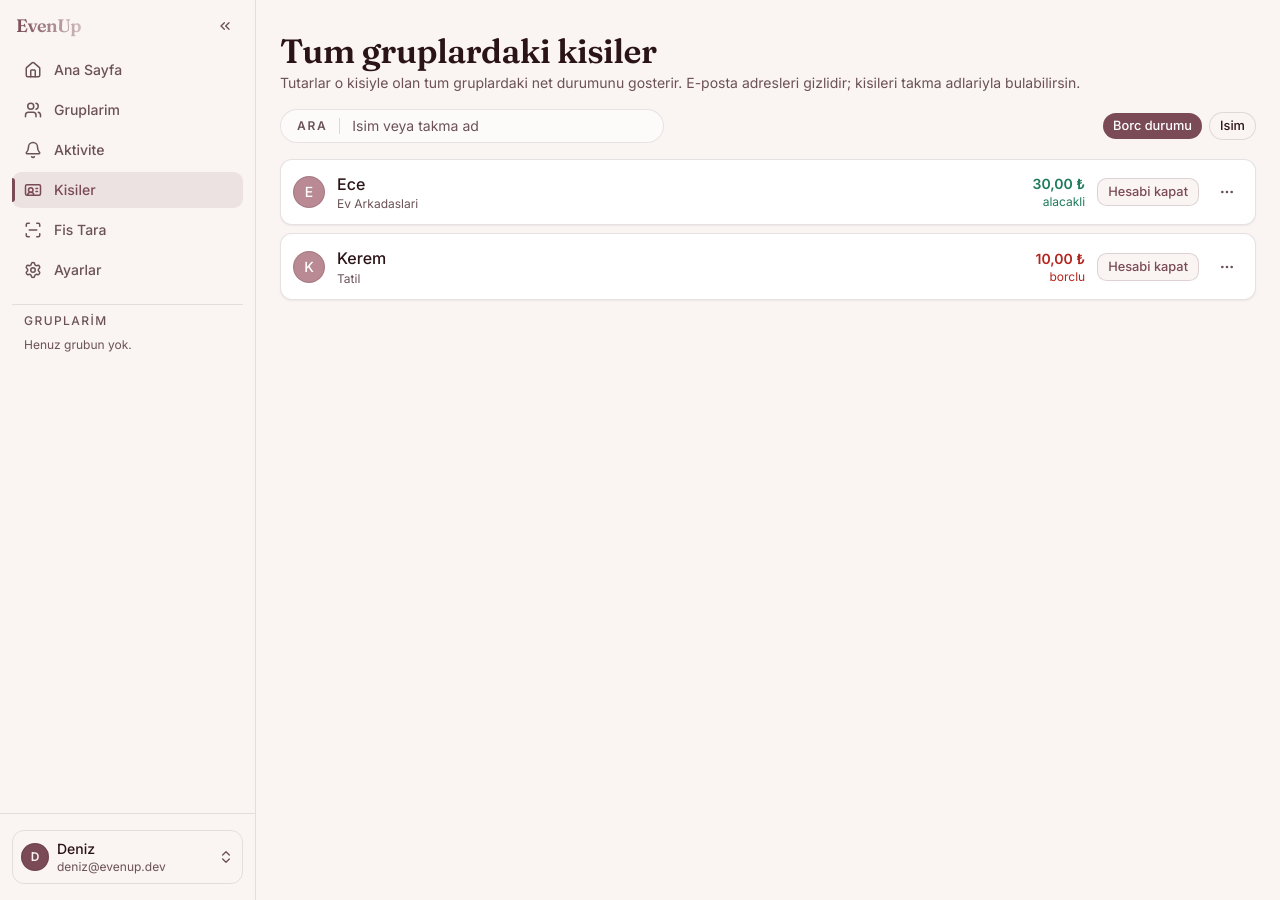
arama ve siralama › isim/takma ada gore filtreler
Expected: the text "Ece" is shown, 337,172 -> 365,196
Expected: the text "Kerem" is shown, 337,246 -> 386,271
Type "ece" into the field named "Kisi ara" at (500, 126), box 352,116 -> 647,136
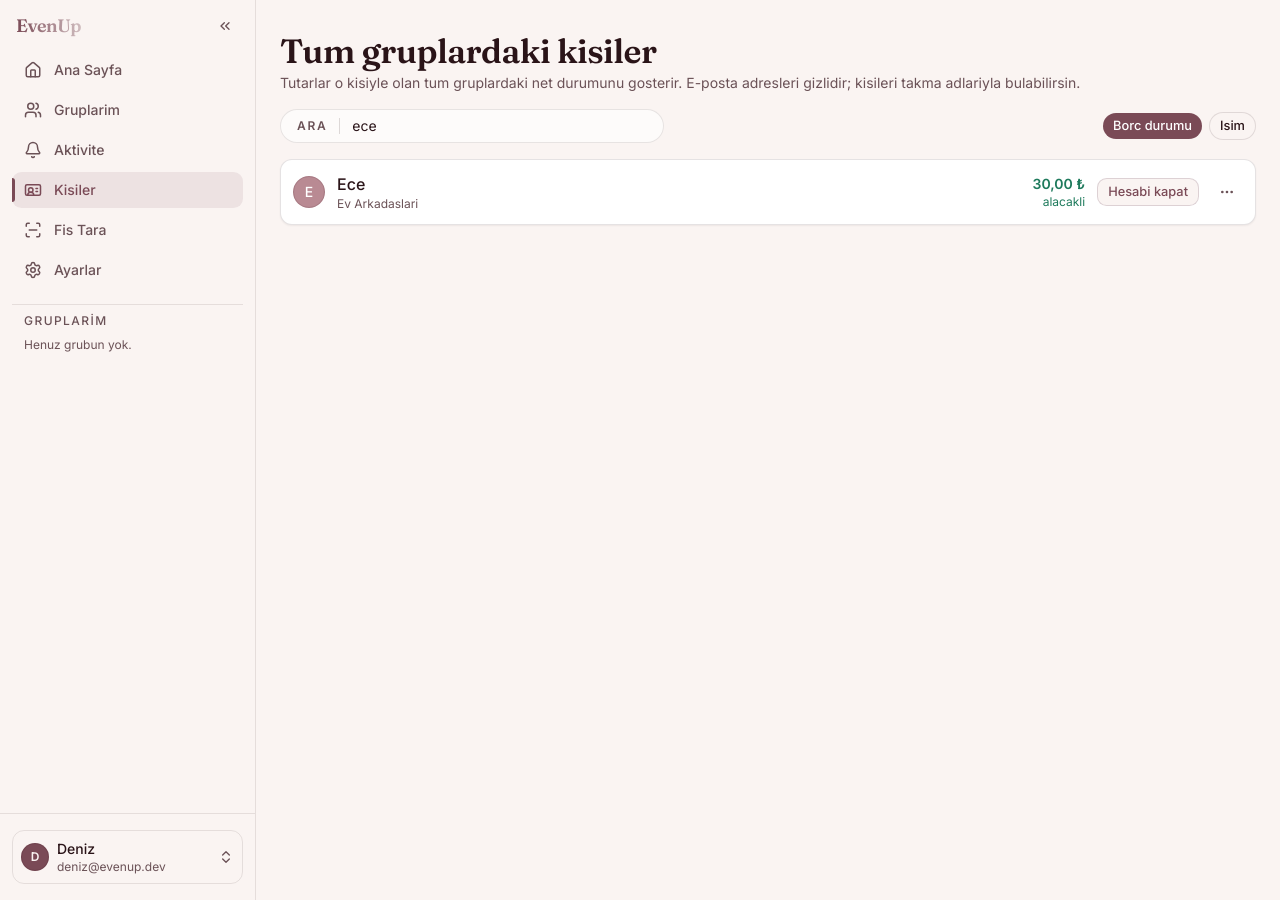
Expected: the text "Ece" is shown, 337,172 -> 365,196
Result: the text "Kerem" is gone
